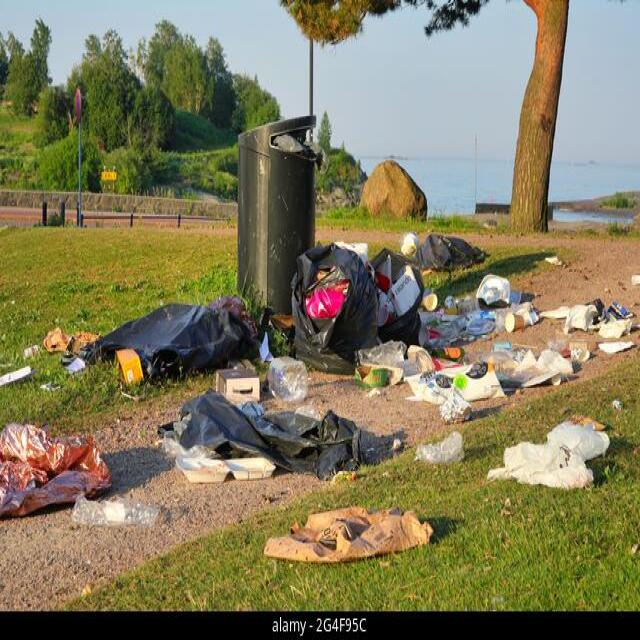cardboard: (252, 516, 446, 584)
metal: (221, 112, 349, 252)
trash: (66, 281, 629, 504)
